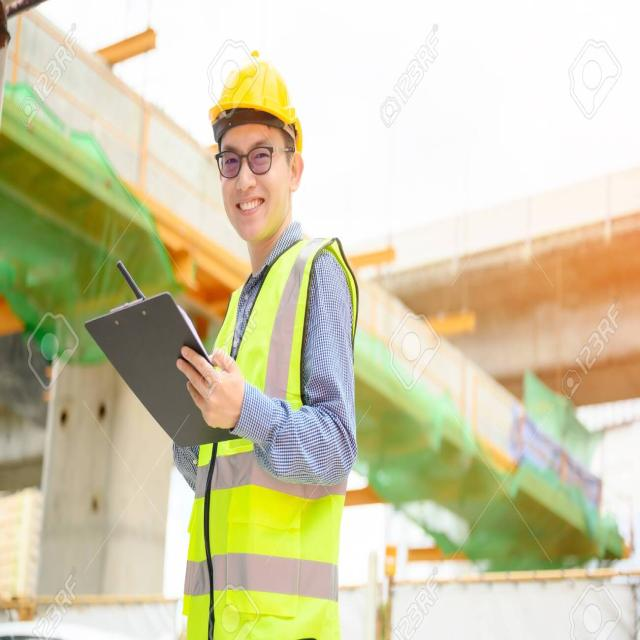helmet: (204, 47, 305, 151)
vest: (179, 231, 363, 640)
